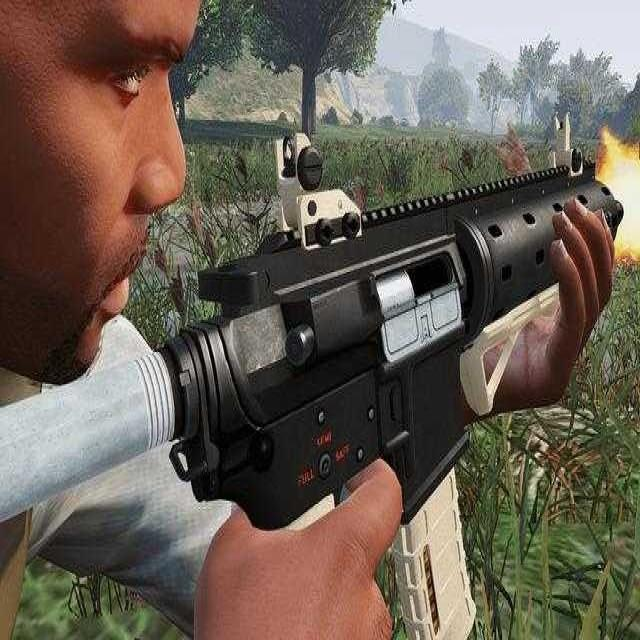heavyweapon: (3, 113, 632, 640)
